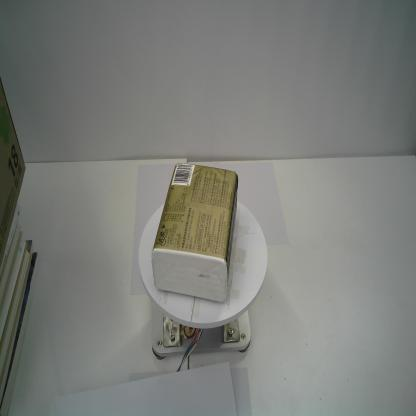Tissue: (151, 162, 239, 304)
